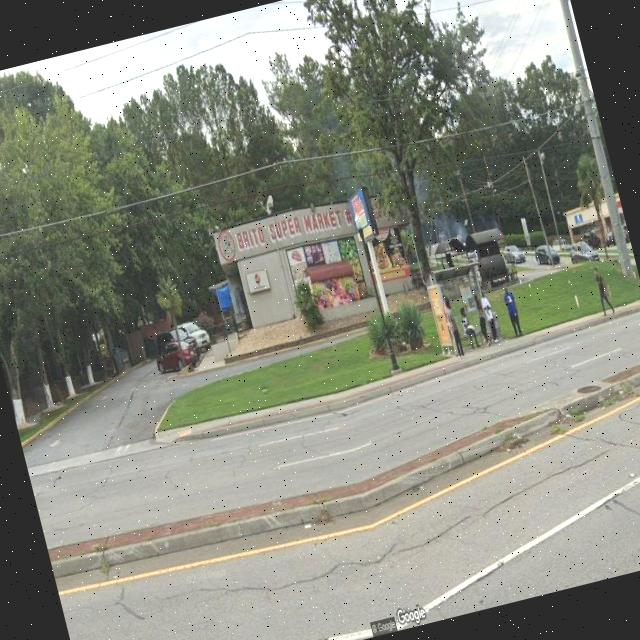seating: (463, 327, 487, 348)
shelter: (421, 258, 501, 360)
trash_can: (490, 310, 503, 340)
